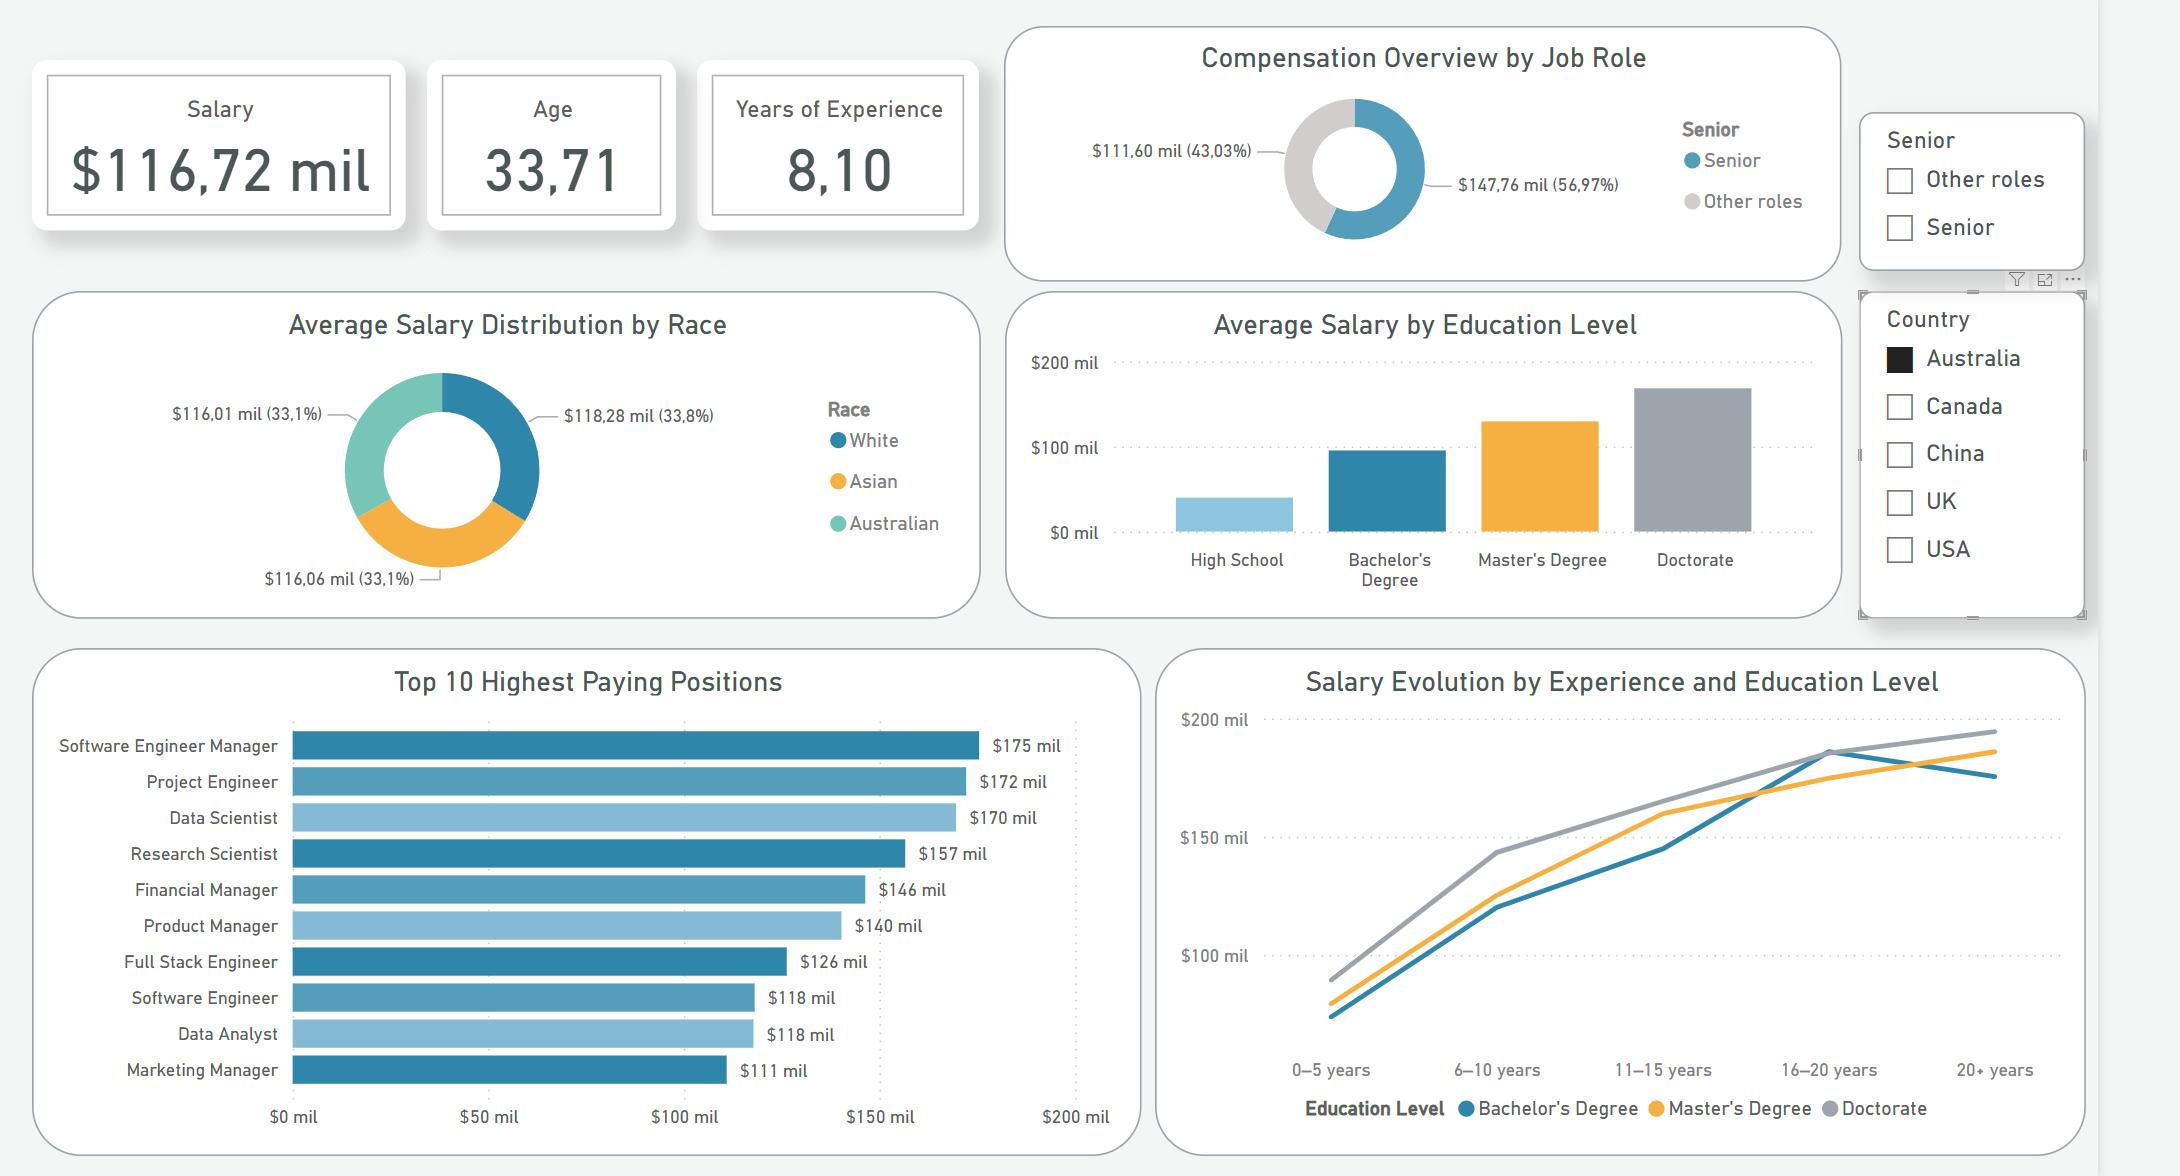

This screenshot's page, from the dashboard's own definition file:
{"tool":"powerbi","page":{"name":"dashboard salary_role-country","canvas":[1280,720],"ordinal":0},"visuals":[{"type":"clusteredColumnChart","title":"Average Salary by Education Level","fields":{"Category":["Salary (2).Education Level 1"],"Y":["Avg(Salary (2).Salary)"]},"box":[613,180.3,510.8,199.8],"z":0},{"type":"slicer","fields":{"Values":["Salary (2).Country"]},"box":[1134.2,180.2,138.5,200.1],"z":1000},{"type":"clusteredBarChart","title":"Top 10 Highest Paying Positions","fields":{"Category":["Salary (2).Job Title"],"Y":["Avg(Salary (2).Salary)"]},"box":[19.5,397.6,676.8,310.4],"z":2000},{"type":"cardVisual","fields":{"Data":["Avg(Salary (2).Salary)"]},"box":[19.5,39,228.4,104.1],"z":3000},{"type":"donutChart","title":"Average Salary Distribution by Race","fields":{"Category":["Salary (2).Race"],"Y":["Avg(Salary (2).Salary)"]},"box":[19.5,180.3,578.5,199.8],"z":4000},{"type":"donutChart","title":"Compensation Overview by Job Role","fields":{"Category":["Salary (2).Senior1"],"Y":["Avg(Salary (2).Salary)"]},"box":[612.8,18.6,510.8,155.7],"z":5000},{"type":"slicer","fields":{"Values":["Salary (2).Senior1"]},"box":[1134.2,70.9,138.5,97.4],"z":6000},{"type":"cardVisual","fields":{"Data":["Avg(Salary (2).Years of Experience)"]},"box":[425.6,39,172.4,104.1],"z":7000},{"type":"cardVisual","fields":{"Data":["Avg(Salary (2).Age)"]},"box":[260.3,39,152.3,104.1],"z":8000},{"type":"lineChart","title":"Salary Evolution by Experience and Education Level","fields":{"Y":["Avg(Salary (2).Salary)"],"Category":["Salary (2).Years of Experience_grouped"],"Series":["EducationTable.Education Level"]},"box":[704.7,397.6,568.1,310.4],"z":9000}]}

Visuals, with their boxes on the page's 1280x720 design canvas (x1, y1, x2, y2). These are canvas units, not pixel positions in the 2180x1176 screenshot, which may show the page scaled, cropped or inside an application window:
"Average Salary by Education Level" clusteredColumnChart: 613:180:1124:380
slicer - Salary (2).Country: 1134:180:1273:380
"Top 10 Highest Paying Positions" clusteredBarChart: 20:398:696:708
cardVisual - Avg(Salary (2).Salary): 20:39:248:143
"Average Salary Distribution by Race" donutChart: 20:180:598:380
"Compensation Overview by Job Role" donutChart: 613:19:1124:174
slicer - Salary (2).Senior1: 1134:71:1273:168
cardVisual - Avg(Salary (2).Years of Experience): 426:39:598:143
cardVisual - Avg(Salary (2).Age): 260:39:413:143
"Salary Evolution by Experience and Education Level" lineChart: 705:398:1273:708
